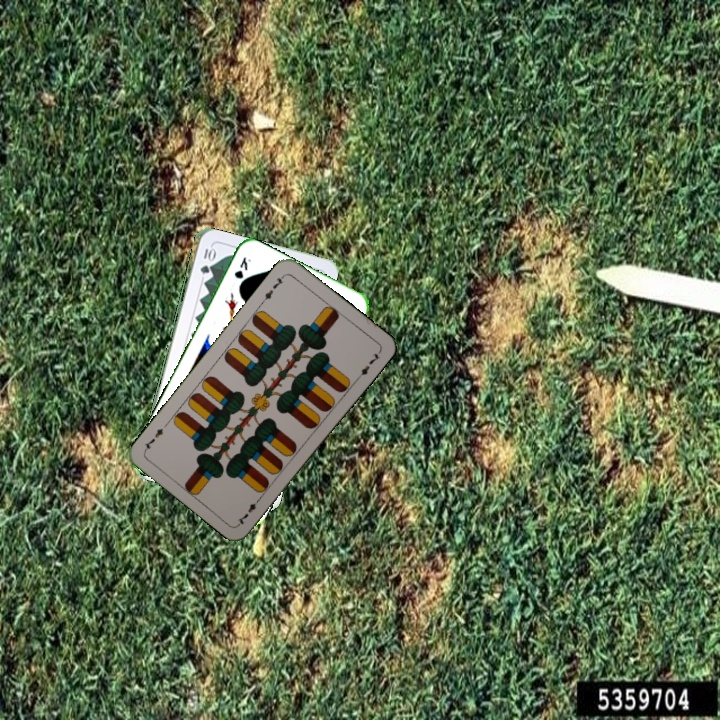E7: (233, 493, 264, 527), (258, 271, 287, 305)
G10: (196, 243, 215, 277)
GK: (230, 253, 253, 281)
